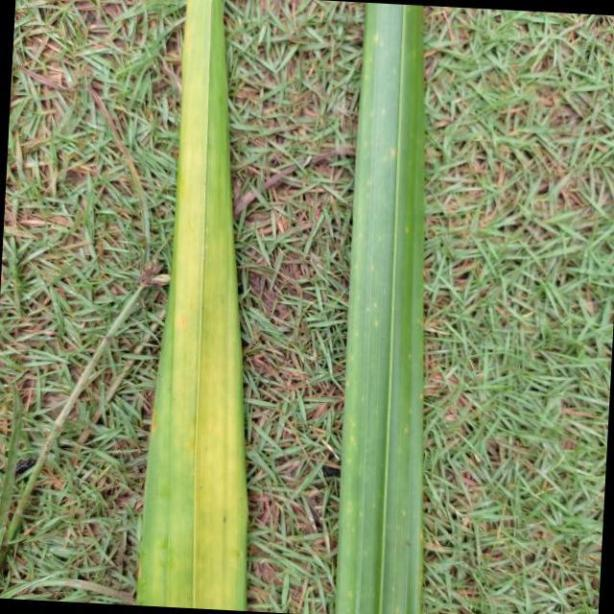nitrogen: (141, 0, 248, 614), (334, 0, 422, 614)
